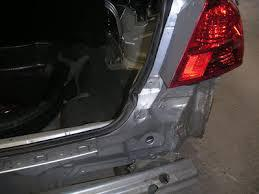rear-bumper-dent: (0, 115, 189, 193)
